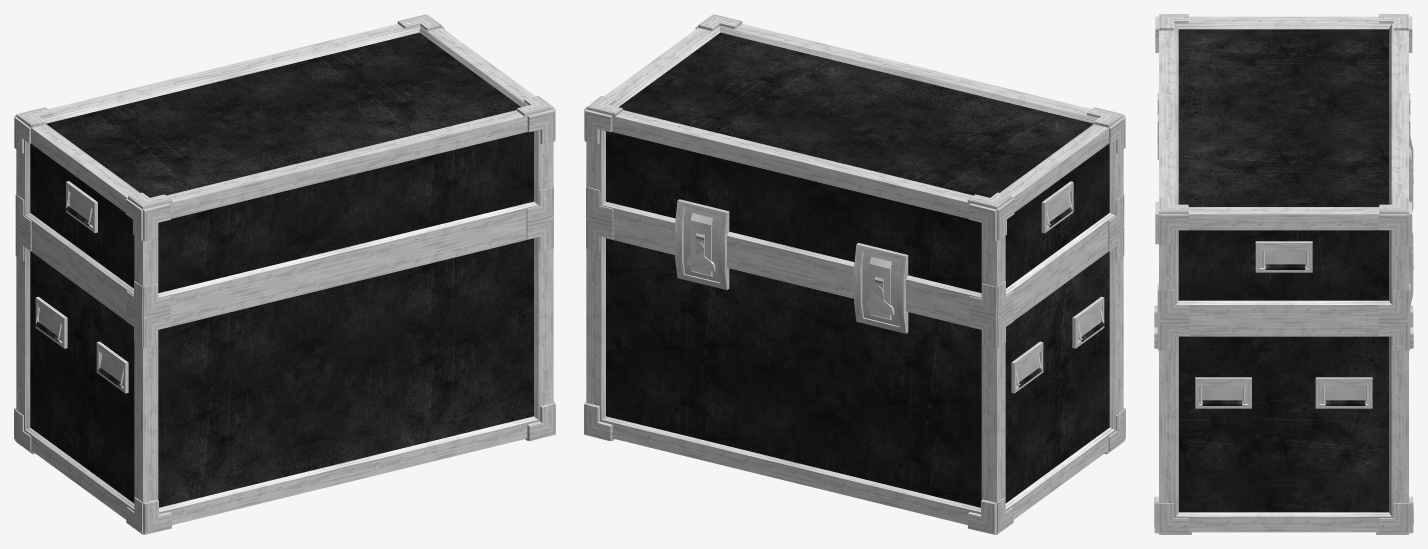
Rendered from flight_case_big_1.fbx.
The picture shows the model from 3 angles, left to right: view 1: azimuth 30°, elevation 25°; view 2: azimuth 150°, elevation 25°; view 3: azimuth 270°, elevation 25°; orthographic projection.
Visible parts, largest first — view 1: flight_case_big_1; view 2: flight_case_big_1; view 3: flight_case_big_1.
Boxes of the visible parts, left/top/right/bottom form: flight_case_big_1: left=14, top=14, right=555, bottom=534; flight_case_big_1: left=584, top=14, right=1125, bottom=534; flight_case_big_1: left=1154, top=14, right=1413, bottom=534.
Size of the model in its own units: 1.65 by 1.24 by 0.8996.
